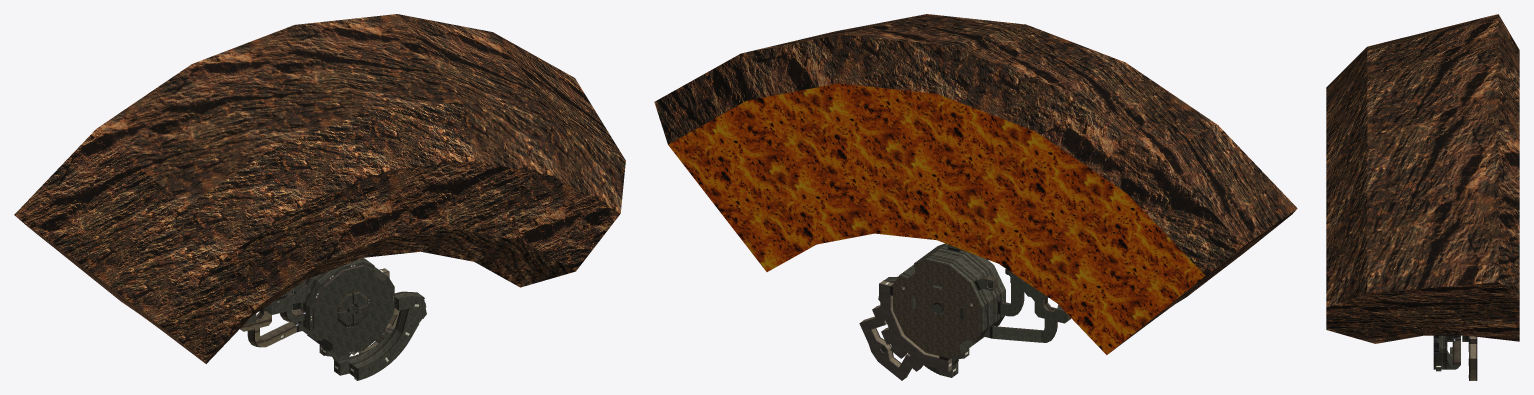
The model's file is DM-Corpax.obj.
3 renders of one model, left to right at view 1: azimuth 30°, elevation 25°; view 2: azimuth 150°, elevation 25°; view 3: azimuth 270°, elevation 25°, orthographic. The views are drawn at different scales.
Parts seen in each view (by area): view 1: GenEarth_Rock_SHrock8, UTtech2_Base_rClfBsG3, UTtech2_Ceiling_rClfClg2, UTtech2_Wall_rClfWl3, UTtech2_Wall_rClfWl3x, UTtech2_Ceiling_rClfClg3x; view 2: Lian-X_Lavas_Lava_AW, GenEarth_Rock_SHrock8, UTtech2_Floor_rCFlr12x, UTtech2_Floor_rClfFlr9x, UTtech2_Wall_rClfWl3, UTtech2_Floor_rClfFlr1x, UTtech2_Wall_rClfWl1a; view 3: GenEarth_Rock_SHrock8, UTtech2_Wall_rClfWl3, UTtech2_Wall_rClfWl1a, UTtech2_Wall_rClfWl3x.
Part boxes in pixels (x1=…): GenEarth_Rock_SHrock8: x1=14, y1=14, x2=625, y2=363; UTtech2_Base_rClfBsG3: x1=299, y1=262, x2=394, y2=355; UTtech2_Ceiling_rClfClg2: x1=245, y1=280, x2=426, y2=379; UTtech2_Wall_rClfWl3: x1=292, y1=258, x2=423, y2=379; UTtech2_Wall_rClfWl3x: x1=240, y1=285, x2=390, y2=347; UTtech2_Ceiling_rClfClg3x: x1=240, y1=310, x2=296, y2=347; Lian-X_Lavas_Lava_AW: x1=668, y1=83, x2=1205, y2=354; GenEarth_Rock_SHrock8: x1=654, y1=14, x2=1297, y2=353; UTtech2_Floor_rCFlr12x: x1=893, y1=259, x2=981, y2=358; UTtech2_Floor_rClfFlr9x: x1=878, y1=244, x2=1067, y2=377; UTtech2_Wall_rClfWl3: x1=884, y1=243, x2=1005, y2=377; UTtech2_Floor_rClfFlr1x: x1=859, y1=284, x2=947, y2=380; UTtech2_Wall_rClfWl1a: x1=860, y1=280, x2=952, y2=380; GenEarth_Rock_SHrock8: x1=1326, y1=14, x2=1519, y2=343; UTtech2_Wall_rClfWl3: x1=1433, y1=335, x2=1468, y2=371; UTtech2_Wall_rClfWl1a: x1=1469, y1=336, x2=1477, y2=380; UTtech2_Wall_rClfWl3x: x1=1452, y1=340, x2=1460, y2=365.
Size of the model in its own units: 259 by 150 by 86.26.
